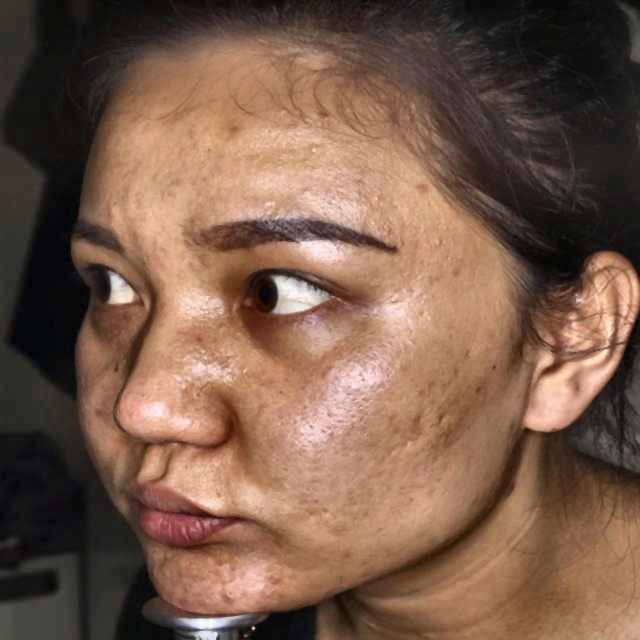pustule: (205, 581, 237, 600), (218, 559, 241, 584), (221, 117, 240, 143), (260, 566, 282, 588), (177, 590, 199, 612), (353, 563, 377, 583), (407, 177, 424, 194)
